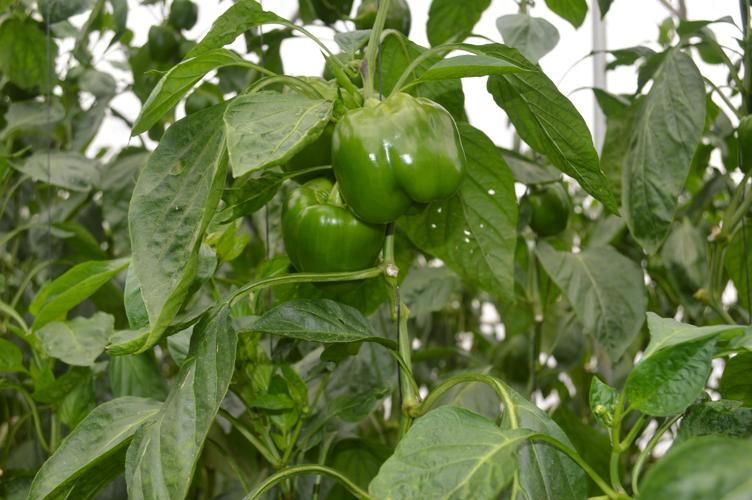BellPepper: (332, 93, 467, 220), (281, 179, 383, 275), (267, 77, 346, 183), (525, 182, 568, 238)
